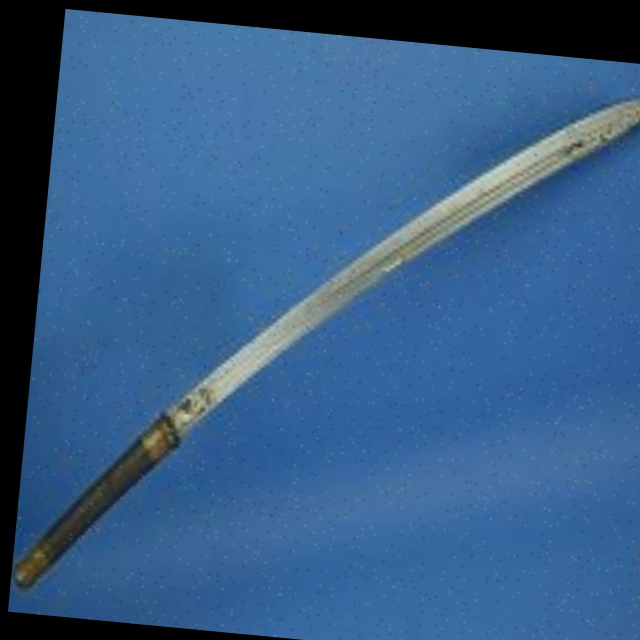Sharp-Object: (9, 33, 640, 640)
